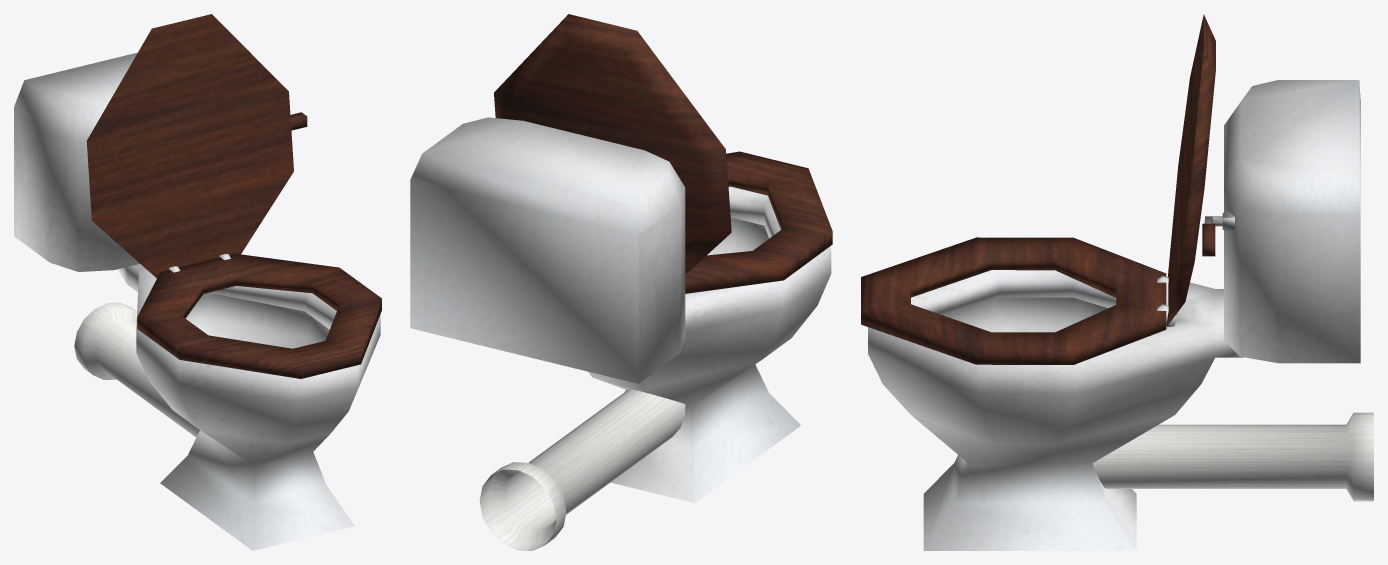
File: toilet.glb
3 renders of one model, left to right at view 1: azimuth 30°, elevation 25°; view 2: azimuth 150°, elevation 25°; view 3: azimuth 270°, elevation 25°, orthographic. The views are drawn at different scales.
Parts seen in each view (by area): view 1: toilet, lid, seat; view 2: toilet, lid, seat; view 3: toilet, seat, lid.
Boxes of the visible parts, <box> form: toilet: <box>14,52,380,550</box>; lid: <box>86,14,293,278</box>; seat: <box>137,253,381,378</box>; toilet: <box>410,117,831,550</box>; lid: <box>494,14,731,274</box>; seat: <box>685,151,832,293</box>; toilet: <box>868,80,1373,550</box>; seat: <box>861,237,1166,364</box>; lid: <box>1167,14,1215,326</box>.
Size of the model in its own units: 0.6766 by 1.22 by 1.16.
Materials: 1 (1 with a texture image).
